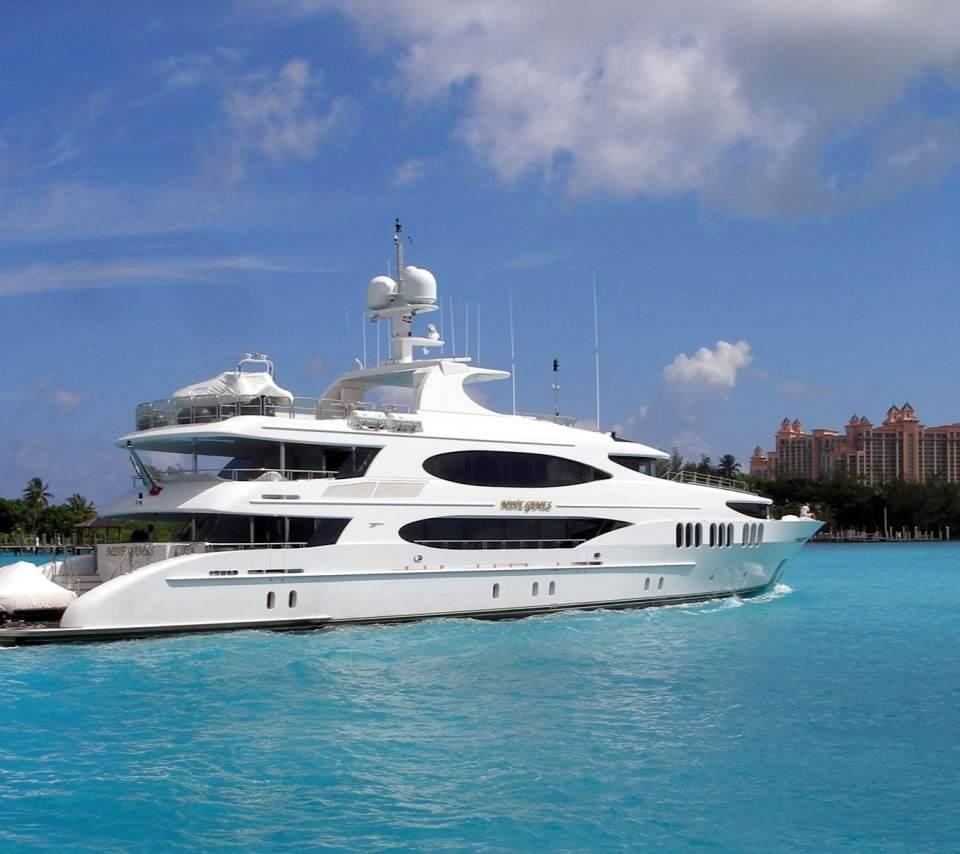yacht: (8, 217, 828, 652)
